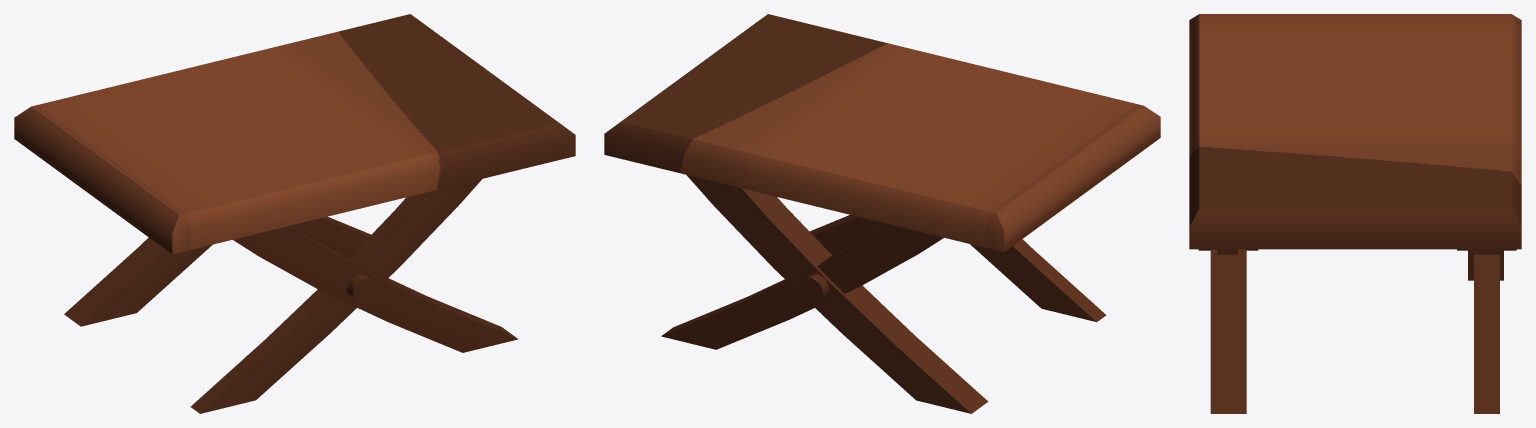
Rendered from SmallTable.fbx.
3 renders of one model, left to right at view 1: azimuth 30°, elevation 25°; view 2: azimuth 150°, elevation 25°; view 3: azimuth 270°, elevation 25°, orthographic. The views are drawn at different scales.
Visible parts, largest first — view 1: Object004; view 2: Object004; view 3: Object004.
Part boxes in pixels (left/top/right/bottom): Object004: left=14, top=14, right=575, bottom=413; Object004: left=604, top=14, right=1160, bottom=413; Object004: left=1189, top=14, right=1521, bottom=413.
Size of the model in its own units: 2.51 by 1.7 by 1.26.
Materials: 1 (1 with a texture image).
